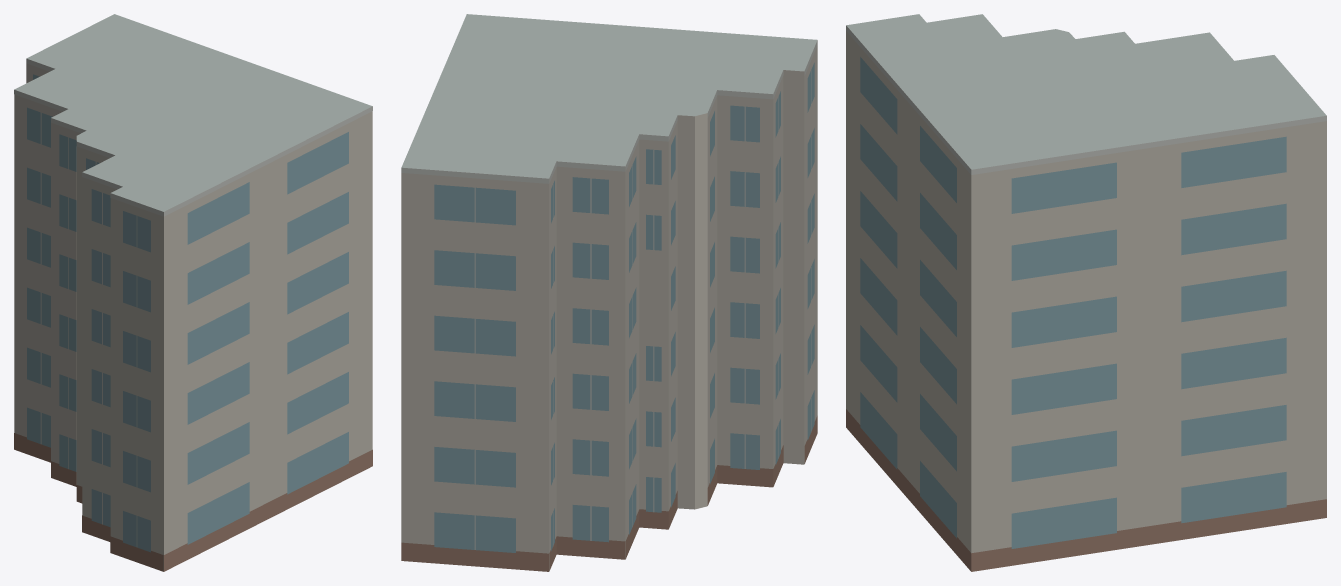
The model's file is survey-upis-32906356.glb.
3 renders of one model, left to right at view 1: azimuth 30°, elevation 25°; view 2: azimuth 150°, elevation 25°; view 3: azimuth 270°, elevation 25°, orthographic. The views are drawn at different scales.
Visible parts, largest first — view 1: survey-upis-32906356.tmp; view 2: survey-upis-32906356.tmp; view 3: survey-upis-32906356.tmp.
Part boxes in pixels (left/top/right/bottom): survey-upis-32906356.tmp: left=14, top=14, right=372, bottom=571; survey-upis-32906356.tmp: left=401, top=14, right=817, bottom=571; survey-upis-32906356.tmp: left=846, top=14, right=1326, bottom=571.
Size of the model in its own units: 15.21 by 18.3 by 19.84.
